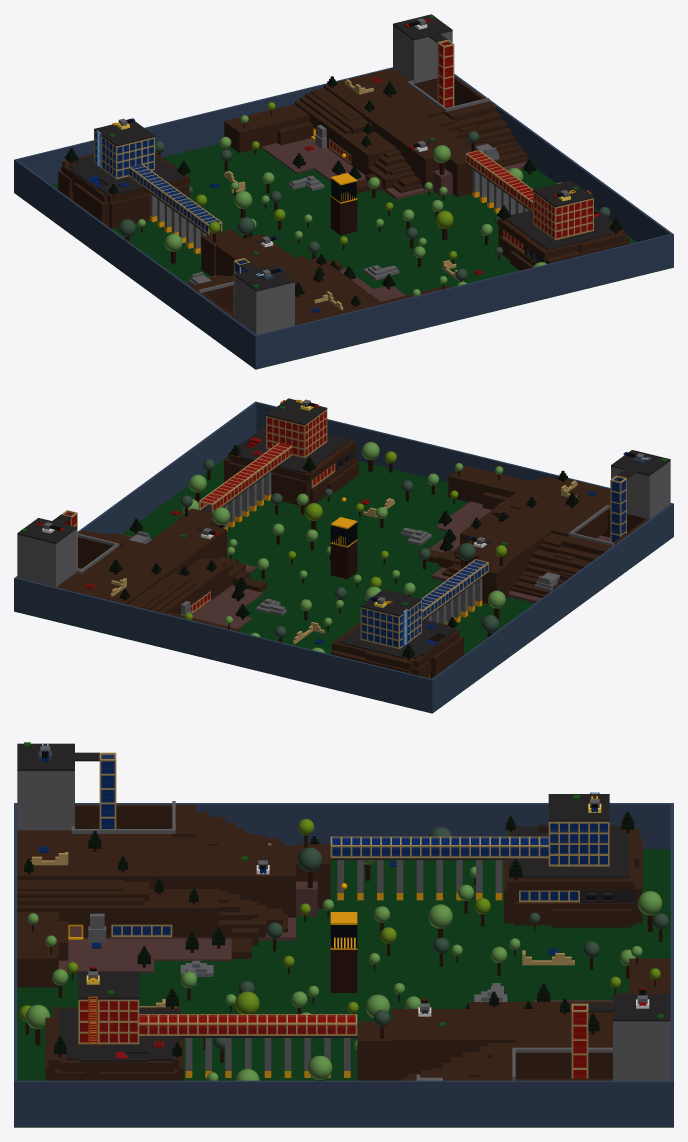
Rendered from GlassHousess.obj.
The picture shows the model from 3 angles, top to bottom: view 1: azimuth 30°, elevation 25°; view 2: azimuth 150°, elevation 25°; view 3: azimuth 270°, elevation 25°; orthographic projection. The views are drawn at different scales.
Parts seen in each view (by area): view 1: Floor2, FrontWall1, LeftWall1, BackWall1, RightWall1, SmoothBlockModel84, SmoothBlockModel13, SmoothBlockModel102, SmoothBlockModel33, SmoothBlockModel64, SmoothBlockModel54, SmoothBlockModel89 (+18 smaller); view 2: Floor2, BackWall1, LeftWall1, RightWall1, FrontWall1, SmoothBlockModel64, SmoothBlockModel84, SmoothBlockModel33, SmoothBlockModel54, SmoothBlockModel13, SmoothBlockModel3, SmoothBlockModel51 (+18 smaller); view 3: Floor2, RightWall1, LeftWall1, SmoothBlockModel33, SmoothBlockModel84, SmoothBlockModel38, SmoothBlockModel3, SmoothBlockModel85, SmoothBlockModel64, SmoothBlockModel13, SmoothBlockModel34, SmoothBlockModel49 (+29 smaller).
Part boxes in pixels (box(x1,y1,x2,y2)): Floor2: box(14, 143, 673, 369); FrontWall1: box(254, 233, 673, 369); LeftWall1: box(15, 160, 255, 367); BackWall1: box(14, 67, 392, 192); RightWall1: box(454, 74, 672, 241); SmoothBlockModel84: box(380, 115, 471, 189); SmoothBlockModel13: box(235, 276, 294, 334); SmoothBlockModel102: box(224, 104, 309, 153); SmoothBlockModel33: box(216, 234, 306, 276); SmoothBlockModel64: box(393, 25, 452, 83); SmoothBlockModel54: box(323, 69, 420, 111); SmoothBlockModel89: box(294, 100, 397, 167); Floor2: box(14, 456, 673, 713); BackWall1: box(14, 577, 433, 713); LeftWall1: box(432, 504, 672, 711); RightWall1: box(15, 402, 256, 577); FrontWall1: box(255, 401, 673, 536); SmoothBlockModel64: box(17, 529, 76, 587); SmoothBlockModel84: box(136, 518, 226, 568); SmoothBlockModel33: box(461, 519, 552, 591); SmoothBlockModel54: box(59, 564, 158, 604); SmoothBlockModel13: box(611, 461, 670, 519); SmoothBlockModel3: box(534, 479, 610, 538); SmoothBlockModel51: box(448, 465, 530, 504); Floor2: box(14, 849, 673, 1127); RightWall1: box(17, 1080, 670, 1126); LeftWall1: box(75, 803, 670, 849); SmoothBlockModel33: box(172, 845, 295, 917); SmoothBlockModel84: box(392, 1009, 515, 1080); SmoothBlockModel38: box(17, 889, 218, 924); SmoothBlockModel3: box(17, 832, 107, 879); SmoothBlockModel85: box(515, 1009, 571, 1078); SmoothBlockModel64: box(613, 1021, 670, 1080); SmoothBlockModel13: box(17, 771, 74, 830); SmoothBlockModel34: box(108, 834, 172, 888); SmoothBlockModel49: box(68, 939, 231, 960).
Bounding box in the file's own units: 400 × 77.2 × 400.
Materials: 32 (1 with a texture image).
